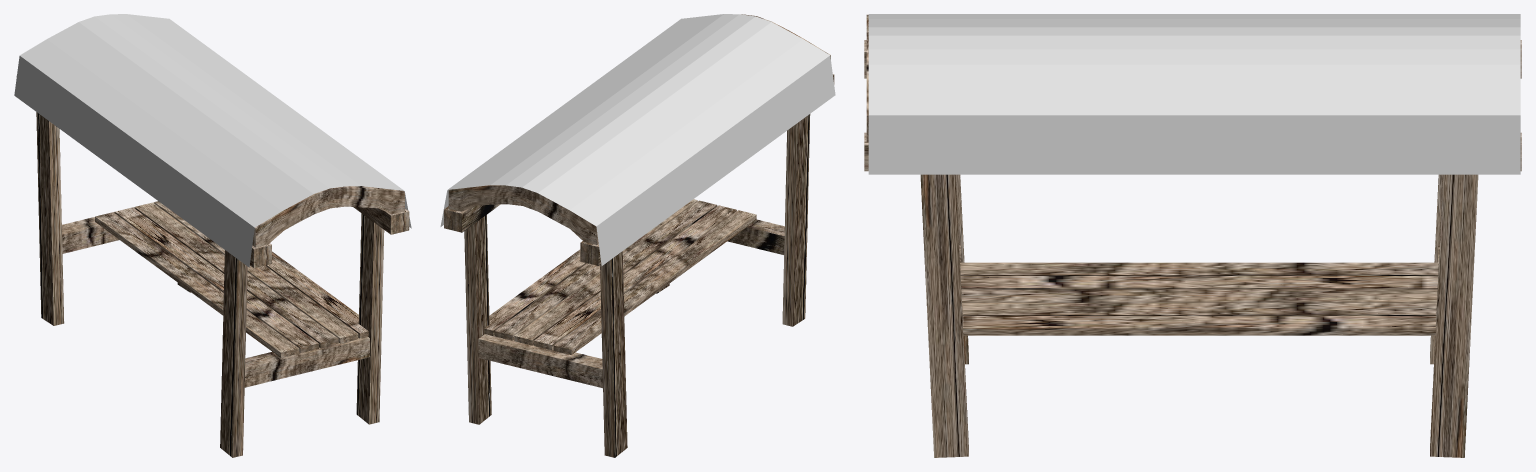
The model's file is market-stall2.fbx.
3 renders of one model, left to right at view 1: azimuth 30°, elevation 25°; view 2: azimuth 150°, elevation 25°; view 3: azimuth 270°, elevation 25°, orthographic. The views are drawn at different scales.
Parts seen in each view (by area): view 1: roof, Cube.025; view 2: roof, Cube.025; view 3: roof, Cube.025.
Part boxes in pixels (left/top/right/bottom): roof: left=14, top=14, right=411, bottom=267; Cube.025: left=16, top=76, right=409, bottom=457; roof: left=440, top=14, right=835, bottom=265; Cube.025: left=444, top=14, right=834, bottom=457; roof: left=868, top=14, right=1520, bottom=174; Cube.025: left=864, top=14, right=1521, bottom=457.
Size of the model in its own units: 178 by 282 by 451.
